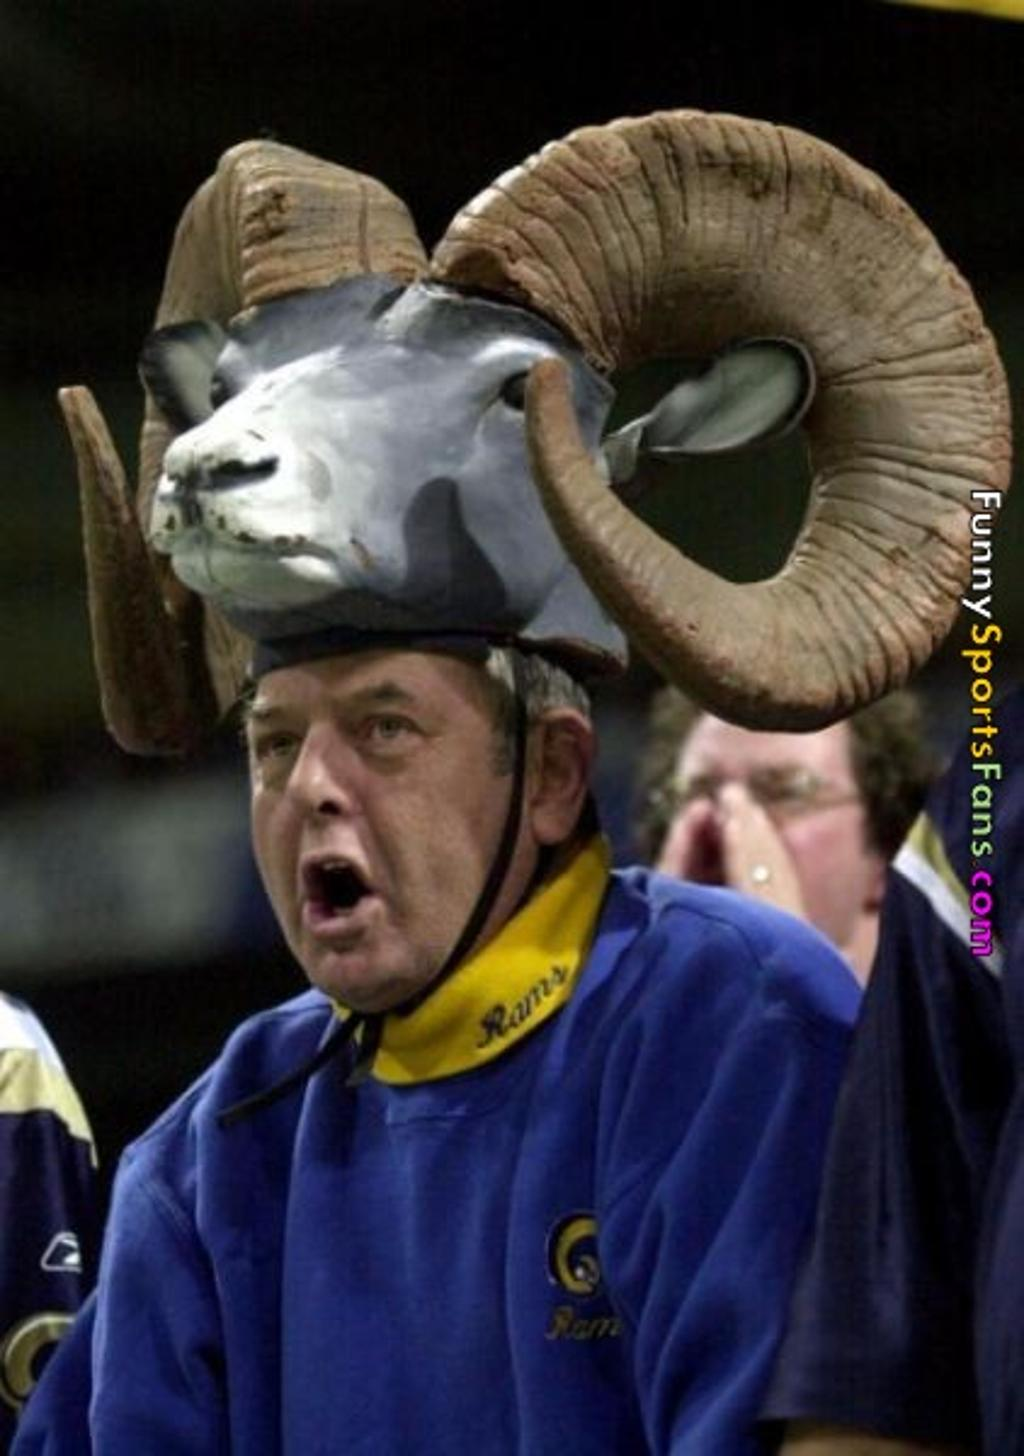face: (242, 620, 518, 1007), (674, 697, 859, 967)
